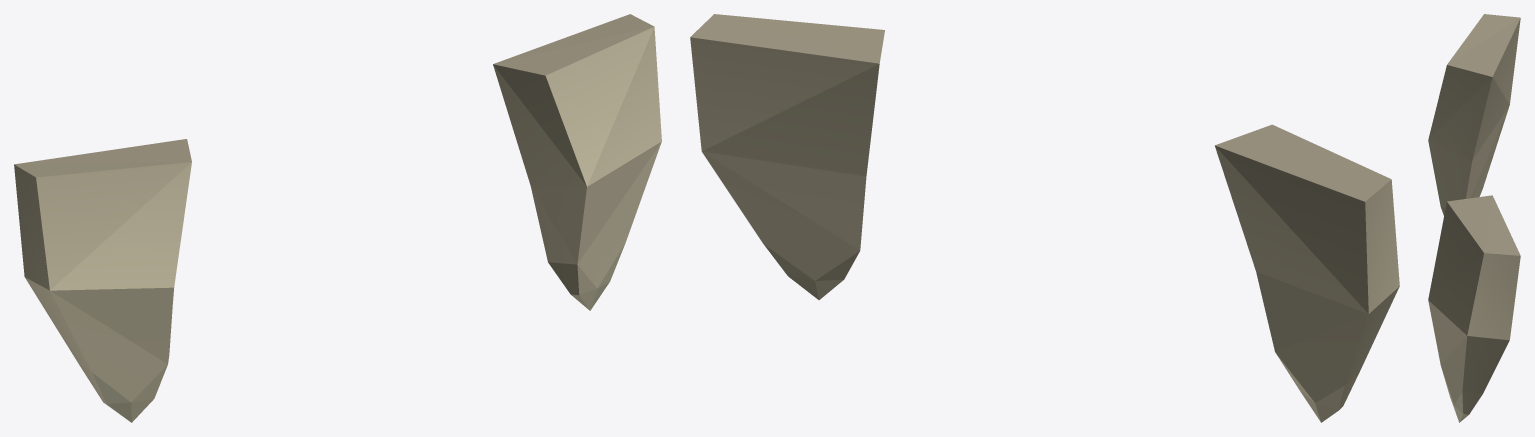
File: miscVampireTeeth.glb
3 renders of one model, left to right at view 1: azimuth 30°, elevation 25°; view 2: azimuth 150°, elevation 25°; view 3: azimuth 270°, elevation 25°, orthographic. The views are drawn at different scales.
Parts seen in each view (by area): view 1: miscVampireTeeth; view 2: miscVampireTeeth; view 3: miscVampireTeeth.
Boxes of the visible parts, bbox=[...] form: miscVampireTeeth: bbox=[14, 14, 661, 422]; miscVampireTeeth: bbox=[690, 14, 1399, 422]; miscVampireTeeth: bbox=[1428, 14, 1520, 422].
Bounding box in the file's own units: 0.0386 × 0.0152 × 0.00632.
